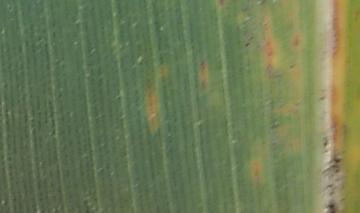tarspot: (320, 164, 341, 175), (331, 149, 342, 163), (325, 199, 335, 213), (321, 136, 330, 148), (317, 93, 325, 102), (7, 4, 15, 13), (244, 39, 251, 48), (216, 1, 225, 7)
